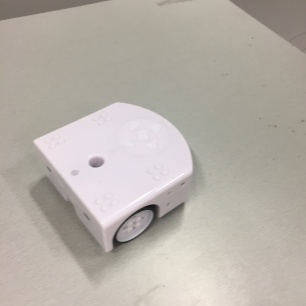thymio: (29, 98, 201, 257)
